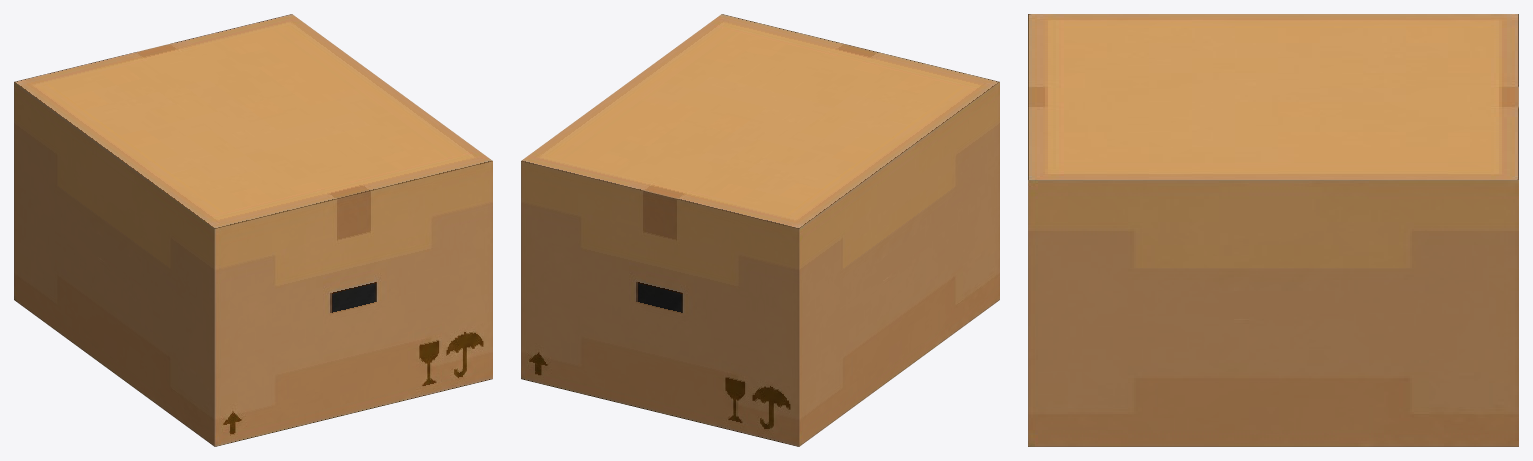
The model's file is 1785355175323_minecraft_verity_box.glb.
3 renders of one model, left to right at view 1: azimuth 30°, elevation 25°; view 2: azimuth 150°, elevation 25°; view 3: azimuth 270°, elevation 25°, orthographic. The views are drawn at different scales.
Parts seen in each view (by area): view 1: main_0; view 2: main_0; view 3: main_0.
Boxes of the visible parts, x1,y1,x2,y2 form: main_0: [14, 14, 492, 446]; main_0: [521, 14, 999, 446]; main_0: [1028, 14, 1518, 446].
Bounding box in the file's own units: 1 × 0.75 × 1.25.
1 material, 1 textured.
